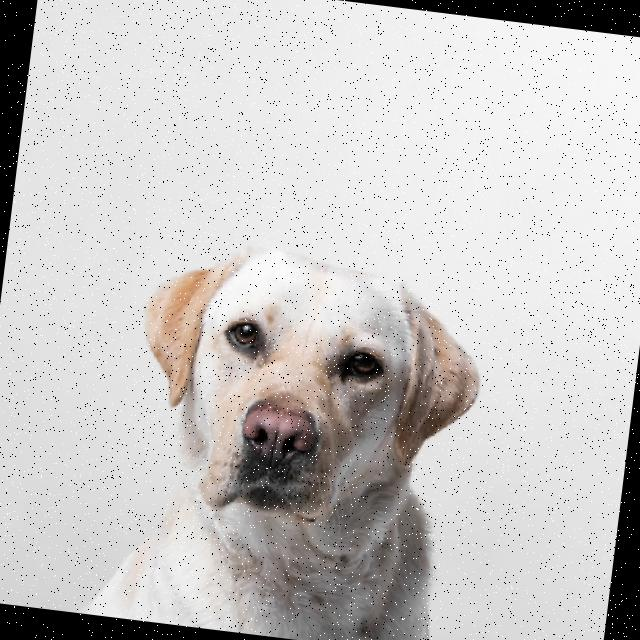Dog: (46, 224, 495, 640)
